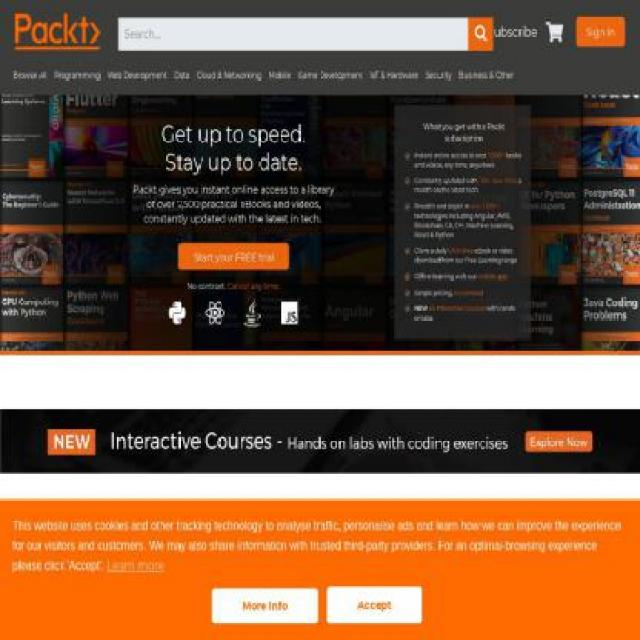button: (212, 588, 318, 624), (327, 586, 422, 625), (193, 53, 265, 95), (294, 53, 366, 95), (103, 53, 171, 95), (454, 53, 518, 95), (366, 53, 422, 95), (50, 53, 104, 95), (9, 53, 51, 95), (577, 17, 625, 48), (422, 53, 456, 95), (266, 53, 294, 95), (170, 53, 193, 95), (543, 17, 566, 46)
field: (118, 18, 493, 52)
